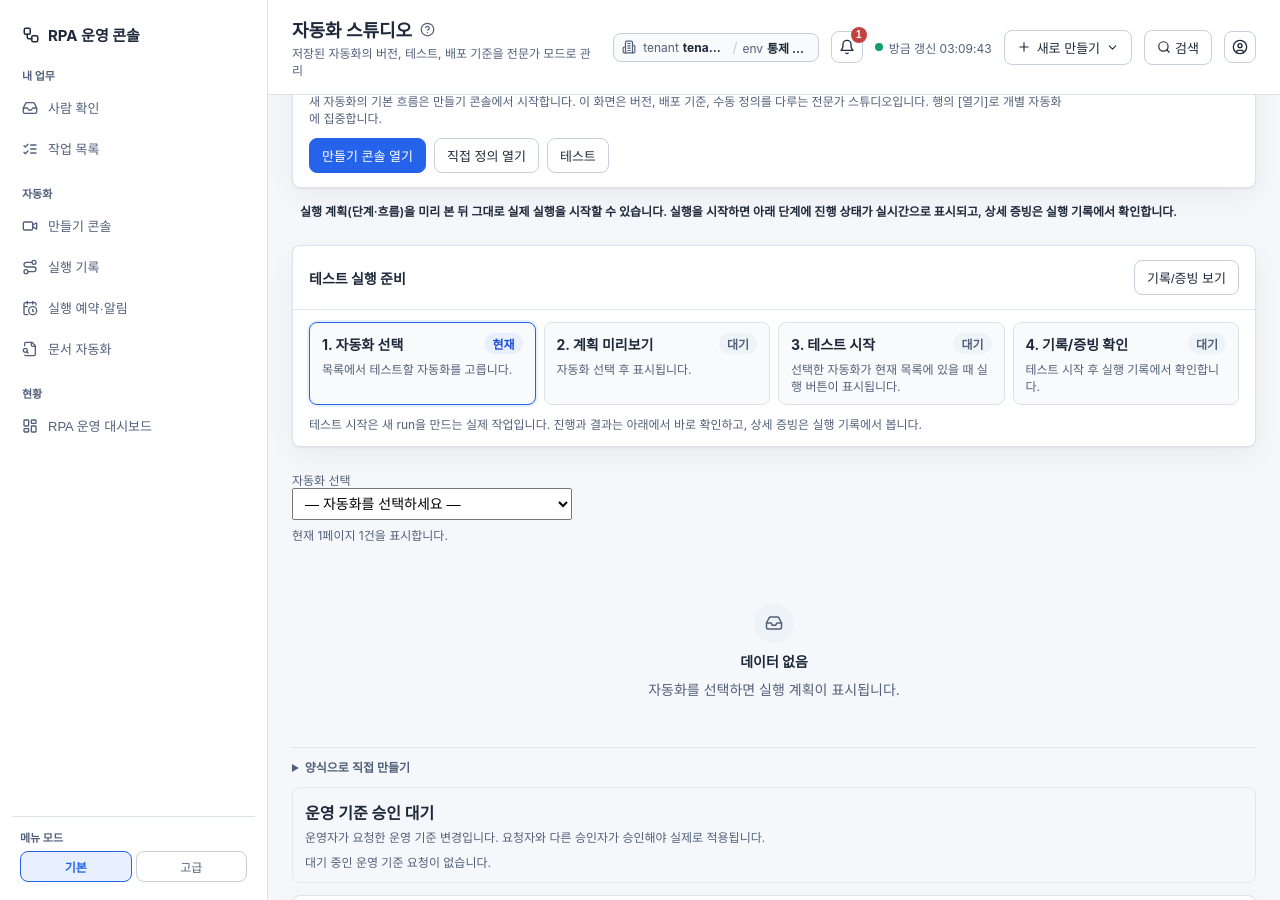
Scenario: 테스트 실행(Playground) — 계획 미리보기 + 실제 실행 시작 › 실행 계획 action 라벨 = 계약-미러(badges.actionLabel), 드리프트 라벨 부재
The width and height of the screenshot is (1280, 900).
(page scrolled)
Select "리뷰 수집 (변경 2)" in the dropdown. click: (432, 504)
box: [292, 488, 572, 520]
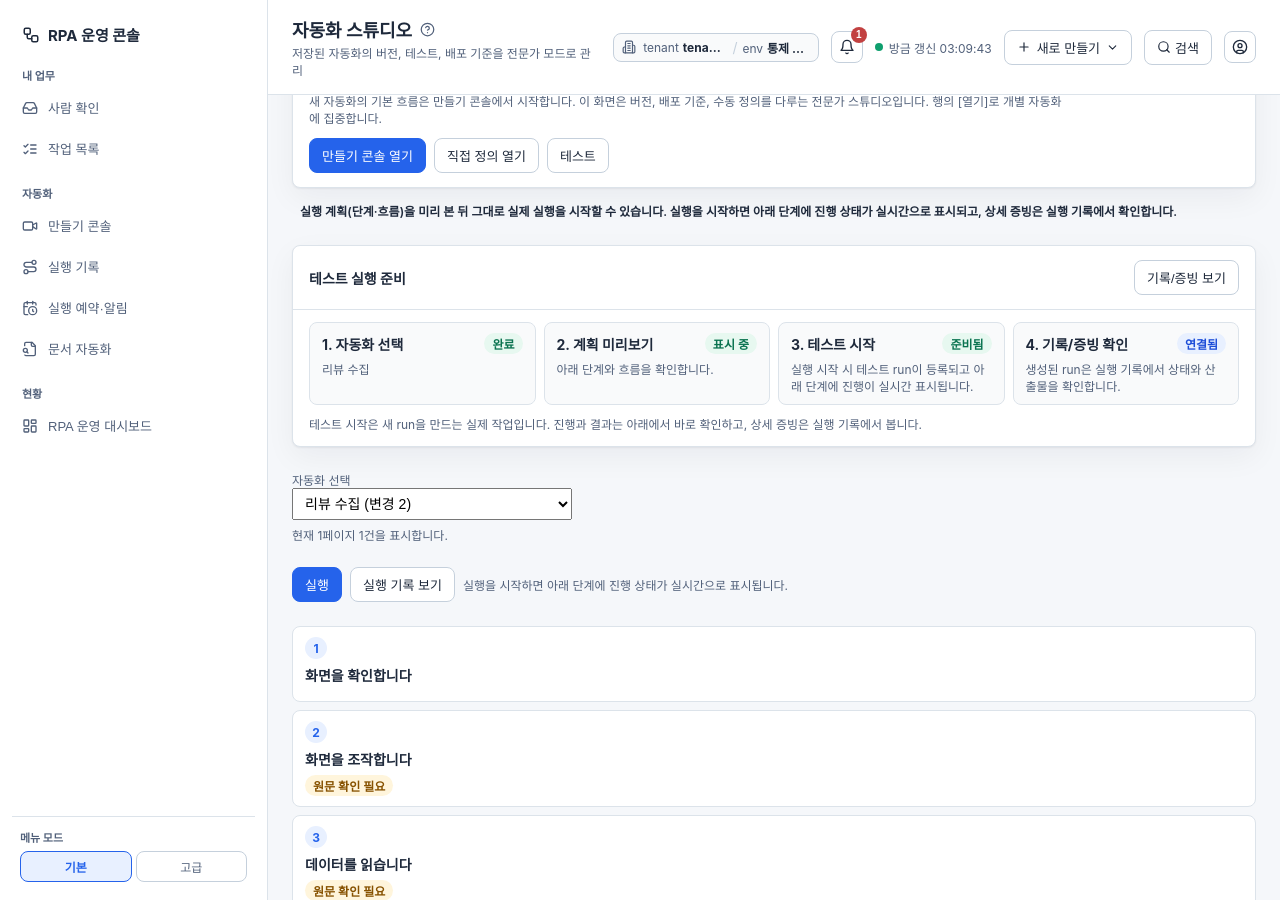
Expected: the text "화면을 확인합니다" is shown, [305, 665, 412, 685]
Expected: the text "화면을 조작합니다" is shown, [305, 749, 412, 769]
Expected: the text "데이터를 읽습니다" is shown, [305, 854, 412, 874]
